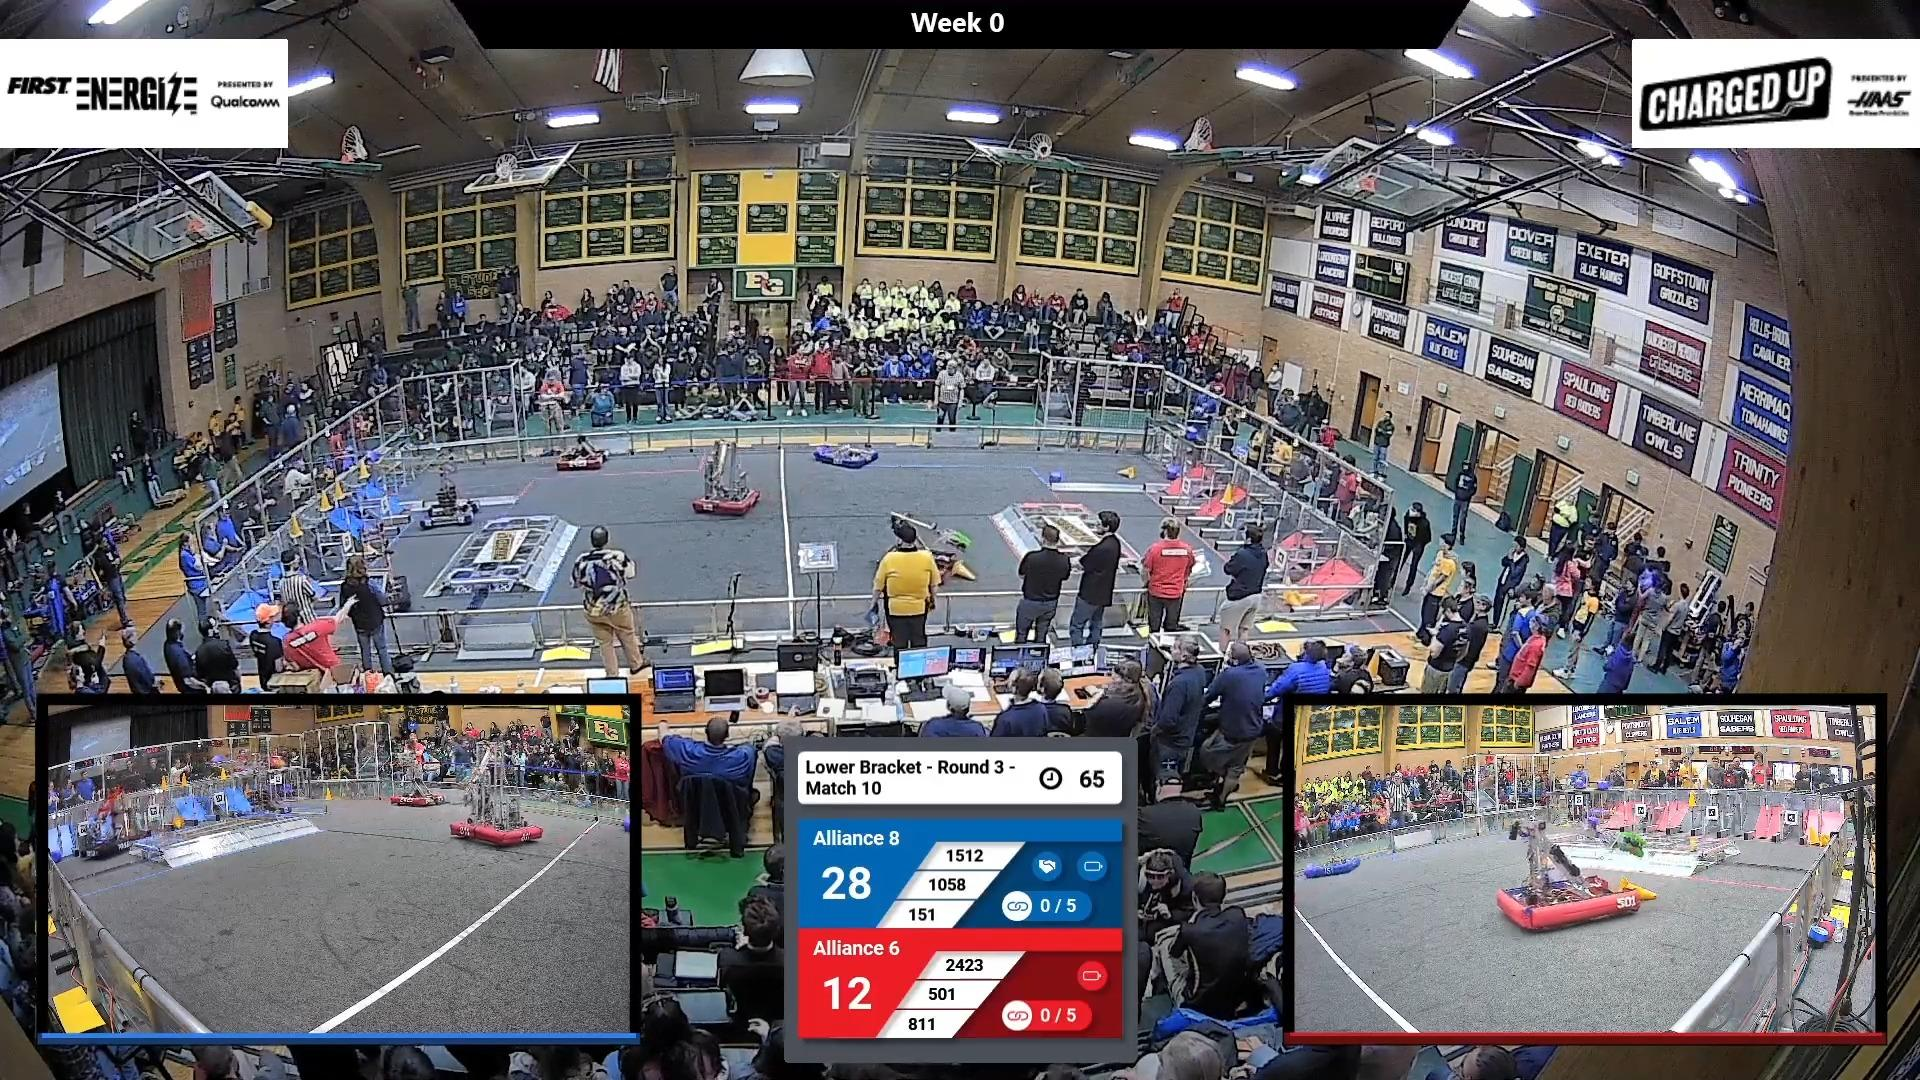robot: (683, 436, 775, 530), (877, 509, 965, 593), (343, 535, 422, 616), (410, 463, 480, 530), (810, 427, 881, 473), (554, 413, 607, 475)
